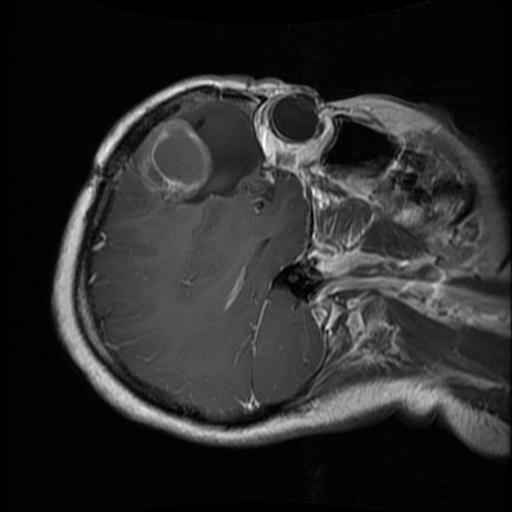glioma: (134, 100, 259, 207)
